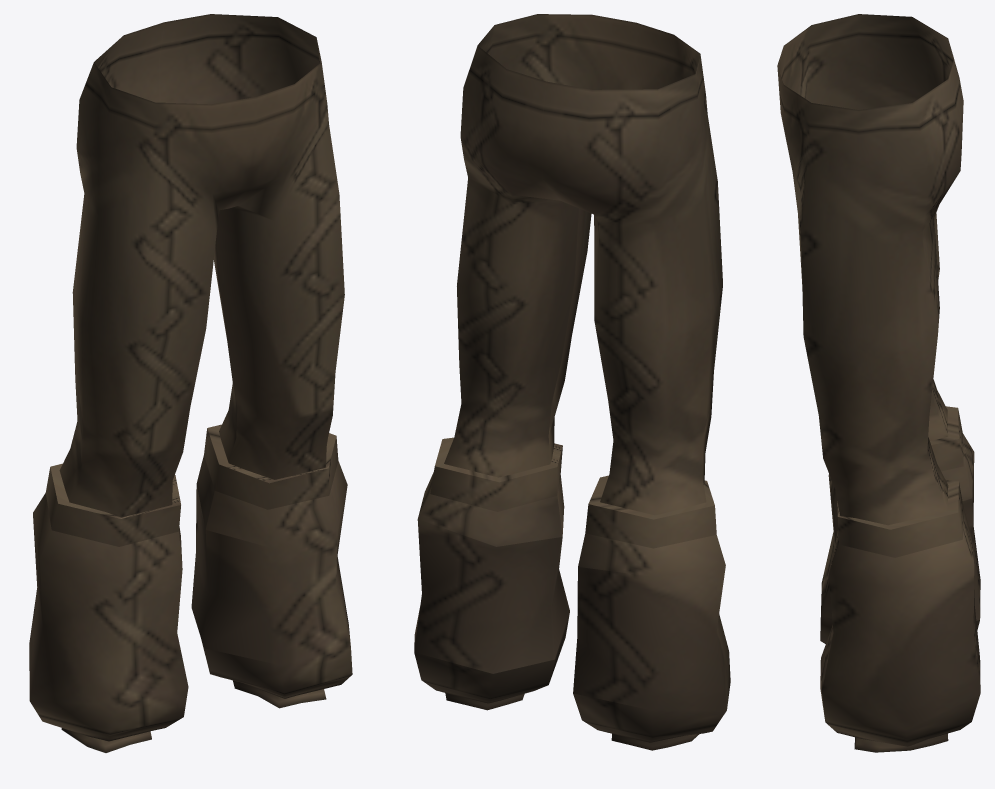
Rendered from hum_berserker_07_684500cd.glb.
The picture shows the model from 3 angles, left to right: view 1: azimuth 30°, elevation 25°; view 2: azimuth 150°, elevation 25°; view 3: azimuth 270°, elevation 25°; orthographic projection. The views are drawn at different scales.
Bounding box in the file's own units: 0.707 × 1.35 × 0.3778.
Materials: 1 (1 with a texture image).
